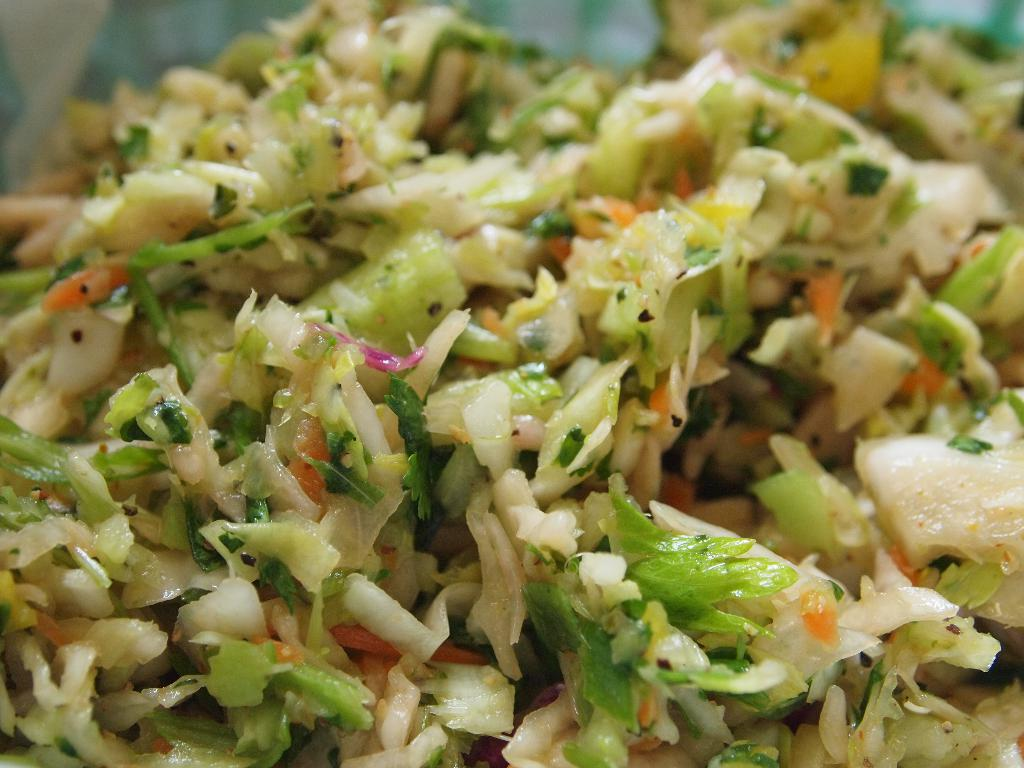Cabbage: (0, 0, 1024, 768)
